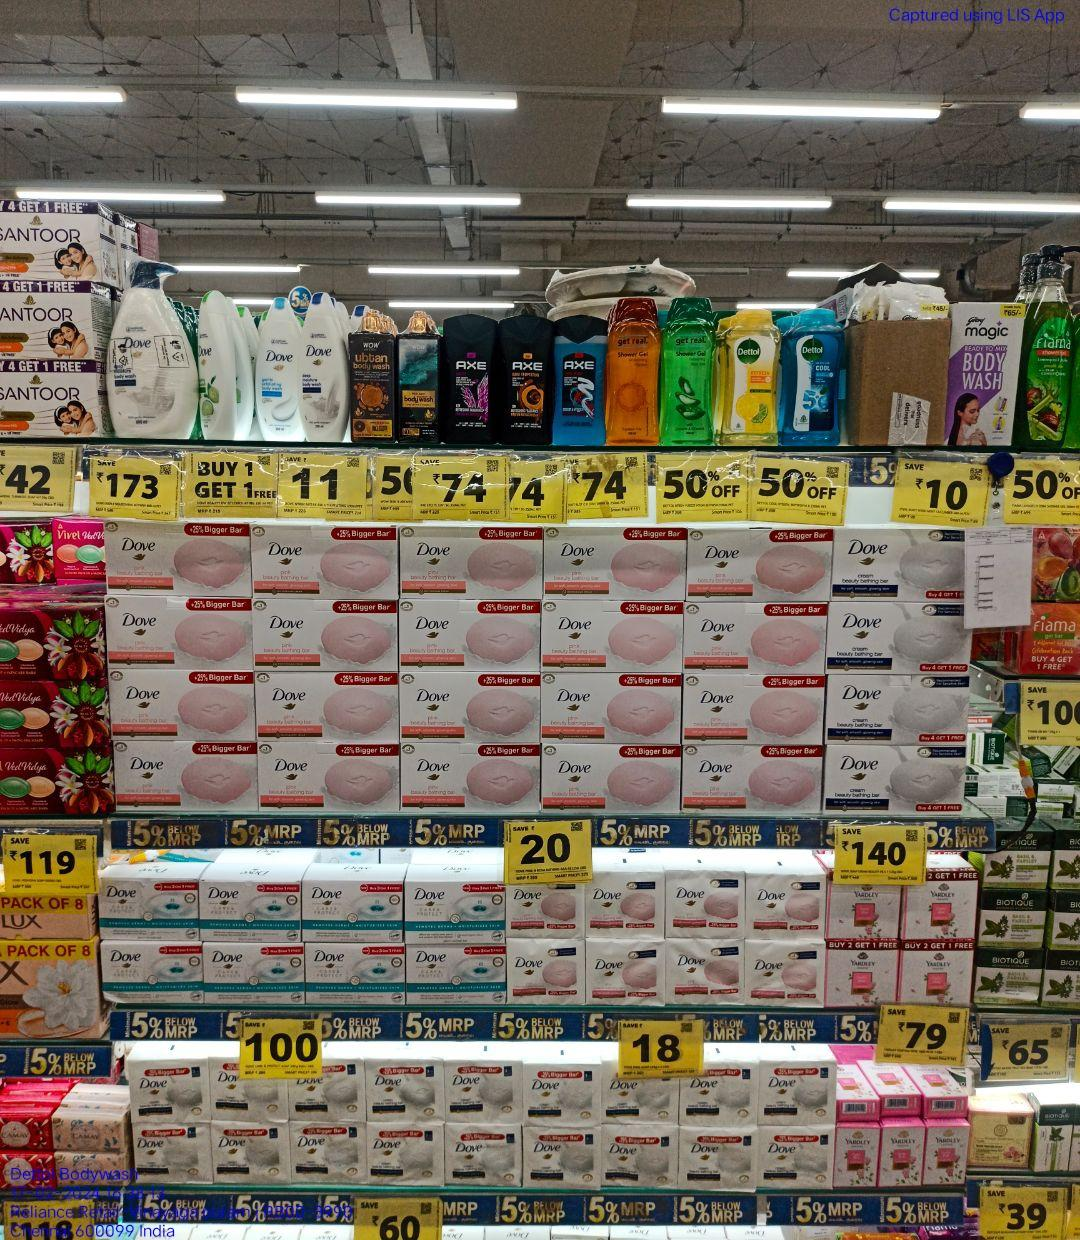Dettol_Bodywash_Cool: (783, 309, 842, 447)
Dettol_Bodywash_Refresh: (720, 310, 778, 447)
Dove_Deep_Moisture_Body_Wash_250ML: (300, 292, 349, 443)
Dove_Gentle_Exfoliating_Body_Wash_250ML: (256, 293, 301, 443)
Get_Real_Shower_Gel_Moisturising_Glycerin_300ML: (614, 299, 659, 445)
